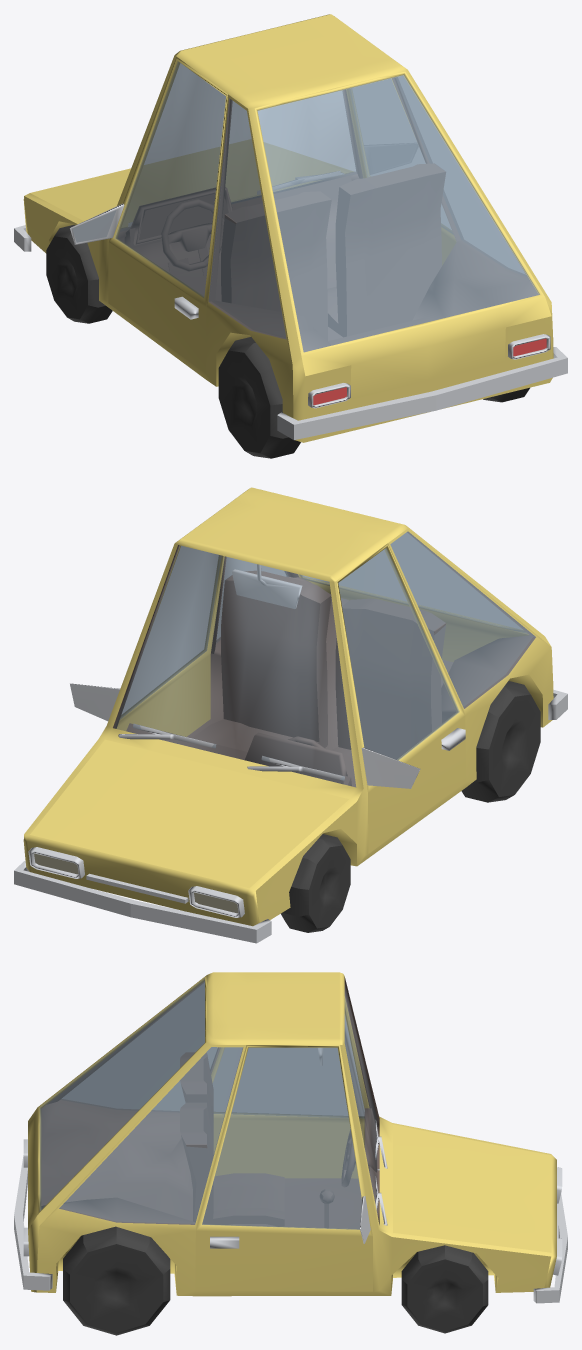
The model's file is KFB_CVP1_hatchback.glb.
The picture shows the model from 3 angles, top to bottom: view 1: azimuth 30°, elevation 25°; view 2: azimuth 150°, elevation 25°; view 3: azimuth 270°, elevation 25°; orthographic projection. The views are drawn at different scales.
Visible parts, largest first — view 1: Window.3, CarMesh, SeatR, Window.2, Trunk, Interior, WindowL, SeatL, Hood, DoorL, WheelRL, BumperRear (+11 smaller); view 2: WindowFront.1, CarMesh, Hood, SeatR, Window.2, SeatL, WindowL, DoorL, Window, Interior, Window.3, WheelRL (+15 smaller); view 3: CarMesh, Window, Interior, Hood, WindowR, Window.3, DoorR, WheelRR, Window.2, DoorL, WindowL, WheelFR (+7 smaller).
Part boxes in pixels (bbox=[...]): Window.3: bbox=[257, 74, 539, 352]; CarMesh: bbox=[23, 14, 553, 442]; SeatR: bbox=[327, 163, 445, 336]; Window.2: bbox=[114, 61, 225, 297]; Trunk: bbox=[254, 71, 551, 399]; Interior: bbox=[118, 77, 538, 351]; WindowL: bbox=[208, 98, 286, 339]; SeatL: bbox=[221, 191, 331, 340]; Hood: bbox=[30, 140, 347, 227]; DoorL: bbox=[108, 56, 227, 373]; WheelRL: bbox=[218, 337, 300, 458]; BumperRear: bbox=[277, 347, 567, 439]; WindowFront.1: bbox=[114, 545, 355, 786]; CarMesh: bbox=[23, 487, 553, 926]; Hood: bbox=[30, 739, 348, 888]; SeatR: bbox=[192, 570, 331, 751]; Window.2: bbox=[338, 548, 459, 760]; SeatL: bbox=[331, 599, 446, 787]; WindowL: bbox=[390, 531, 535, 708]; DoorL: bbox=[336, 543, 466, 853]; Window: bbox=[120, 546, 221, 719]; Interior: bbox=[113, 532, 535, 749]; Window.3: bbox=[301, 533, 525, 632]; WheelRL: bbox=[461, 681, 540, 802]; CarMesh: bbox=[28, 972, 556, 1296]; Window: bbox=[202, 1047, 361, 1229]; Interior: bbox=[41, 977, 379, 1228]; Hood: bbox=[393, 1124, 551, 1252]; WindowR: bbox=[59, 1047, 242, 1224]; Window.3: bbox=[39, 978, 204, 1210]; DoorR: bbox=[195, 1045, 372, 1291]; WheelRR: bbox=[63, 1226, 170, 1335]; Window.2: bbox=[213, 1017, 364, 1118]; DoorL: bbox=[211, 996, 369, 1178]; WindowL: bbox=[62, 983, 217, 1111]; WheelFR: bbox=[401, 1245, 488, 1333].
Bounding box in the file's own units: 2.2 × 1.81 × 3.32.
